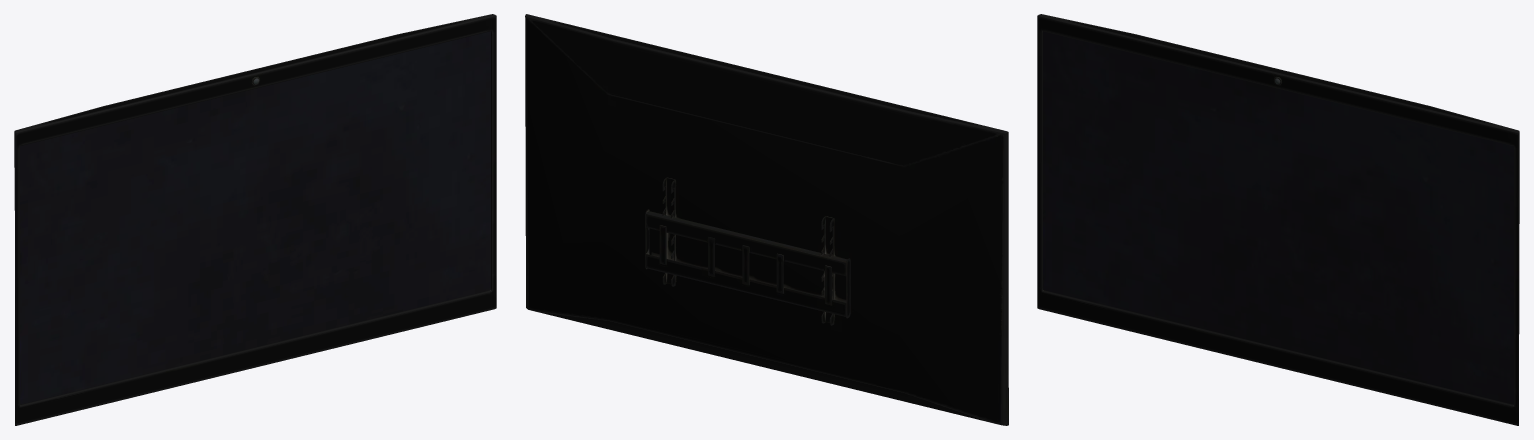
Rendered from tv_with_a_wall_mount.glb.
3 views of the same model, side by side, from view 1: azimuth 30°, elevation 25°; view 2: azimuth 150°, elevation 25°; view 3: azimuth 330°, elevation 25° (orthographic).
Parts seen in each view (by area): view 1: InteractiveWhiteboard_Interactive whiteboard_0; view 2: InteractiveWhiteboard_Interactive whiteboard_0; view 3: InteractiveWhiteboard_Interactive whiteboard_0.
Part boxes in pixels (x1=…): InteractiveWhiteboard_Interactive whiteboard_0: x1=14, y1=14, x2=496, y2=425; InteractiveWhiteboard_Interactive whiteboard_0: x1=525, y1=14, x2=1008, y2=425; InteractiveWhiteboard_Interactive whiteboard_0: x1=1037, y1=14, x2=1519, y2=425.
Bounding box in the file's own units: 3.07 × 1.79 × 0.2504.
Materials: 1 (1 with a texture image).
